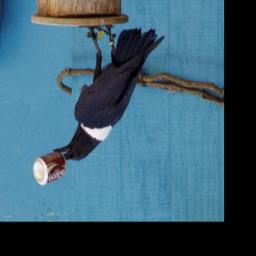Crow: (48, 21, 168, 164)
